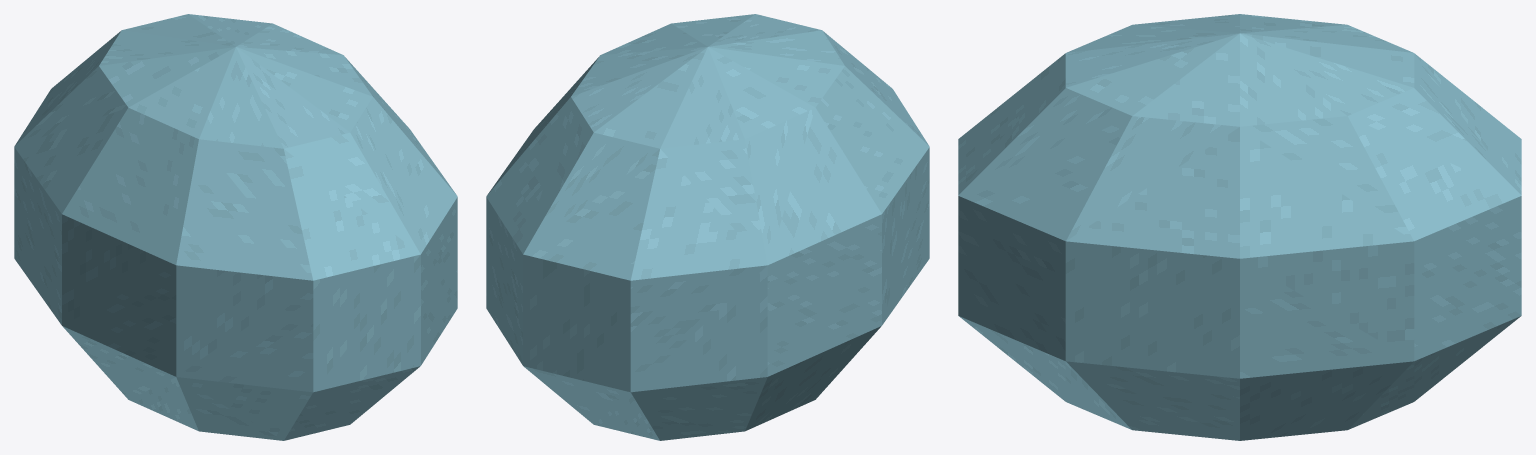
File: egg_robin.glb
3 renders of one model, left to right at view 1: azimuth 30°, elevation 25°; view 2: azimuth 150°, elevation 25°; view 3: azimuth 270°, elevation 25°, orthographic. The views are drawn at different scales.
Visible parts, largest first — view 1: block_egg shell; view 2: block_egg shell; view 3: block_egg shell.
Boxes of the visible parts, left/top/right/bottom form: block_egg shell: left=14, top=14, right=457, bottom=440; block_egg shell: left=486, top=14, right=929, bottom=440; block_egg shell: left=958, top=14, right=1521, bottom=440.
Size of the model in its own units: 0.023 by 0.0228 by 0.0299.
1 material, 1 textured.
